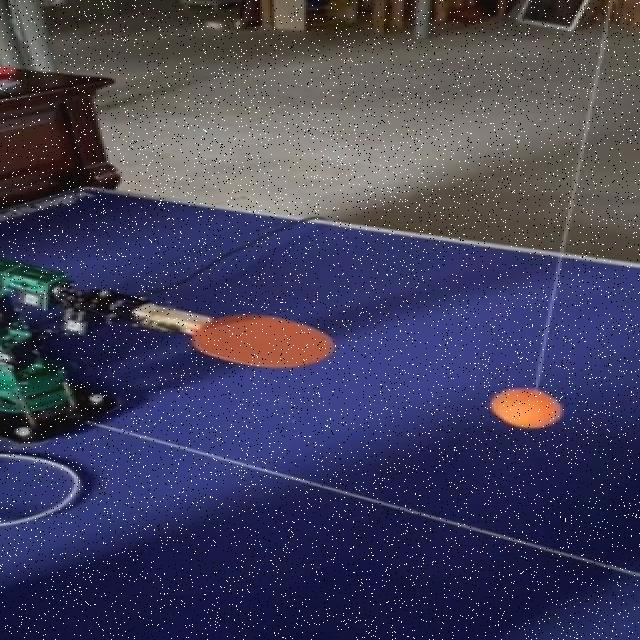ping-pong-ball: (490, 387, 562, 427)
